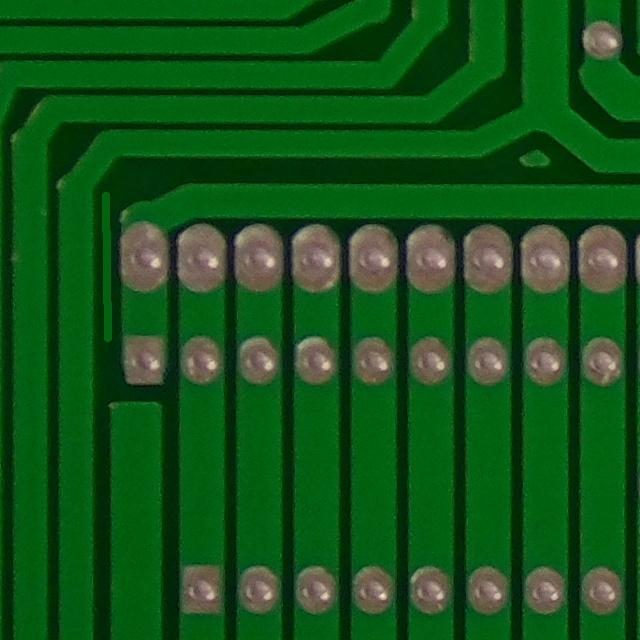spurious_copper: (84, 175, 126, 347)
